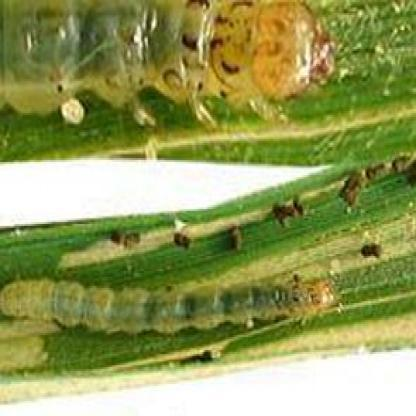leaf-folder: (0, 0, 334, 134), (1, 272, 340, 352)
